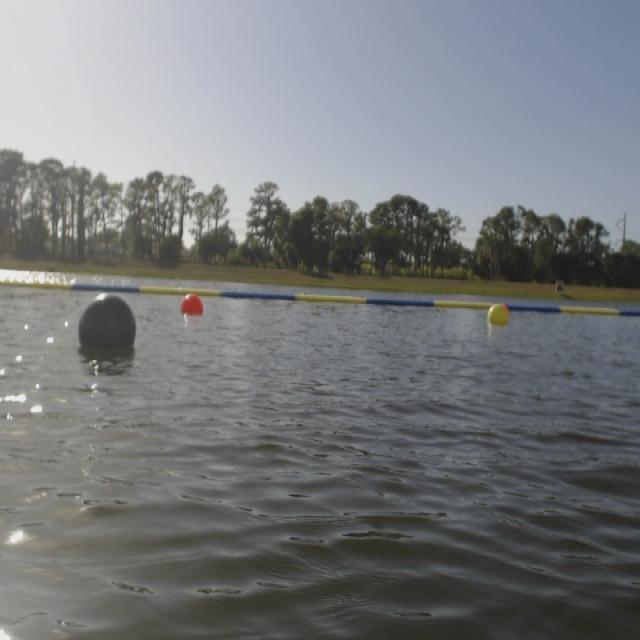Black_Buoy: (79, 302, 139, 352)
Orange__Buoy: (180, 296, 201, 320)
